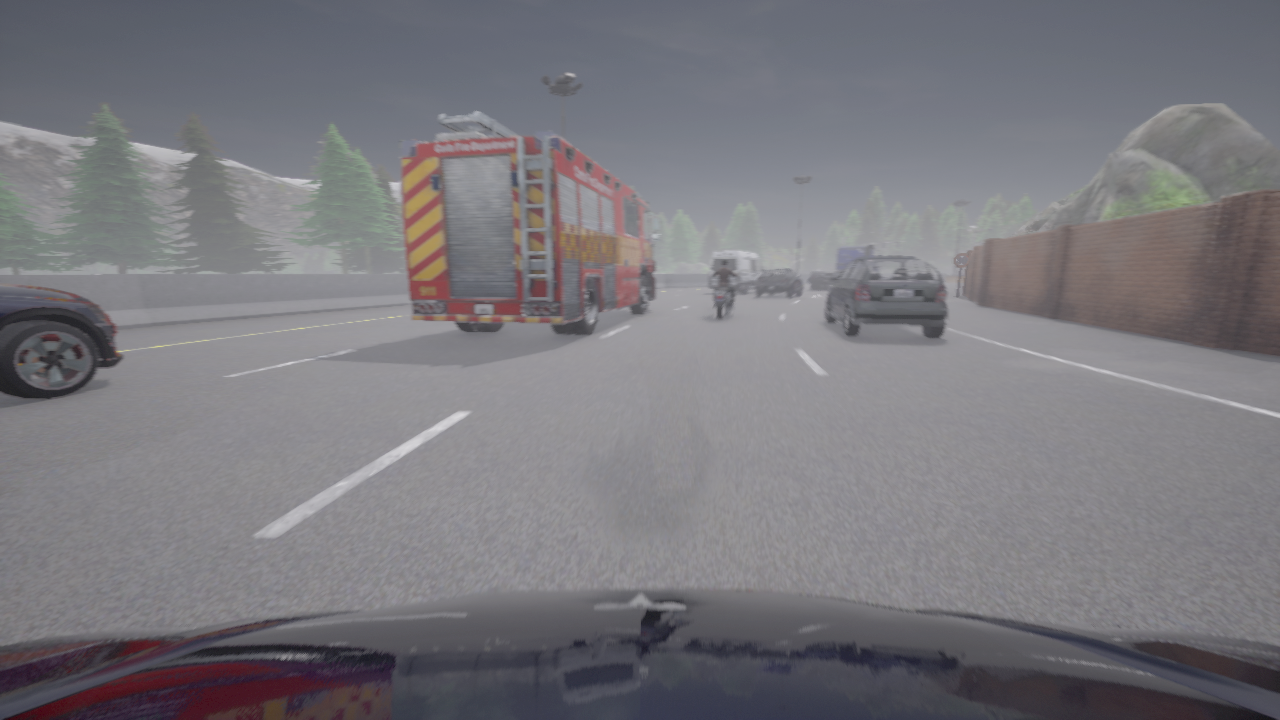cyclist: (0, 588, 1279, 719), (400, 112, 660, 335), (825, 256, 948, 338), (808, 244, 881, 289), (709, 250, 765, 293), (756, 268, 802, 297), (712, 275, 735, 319)
